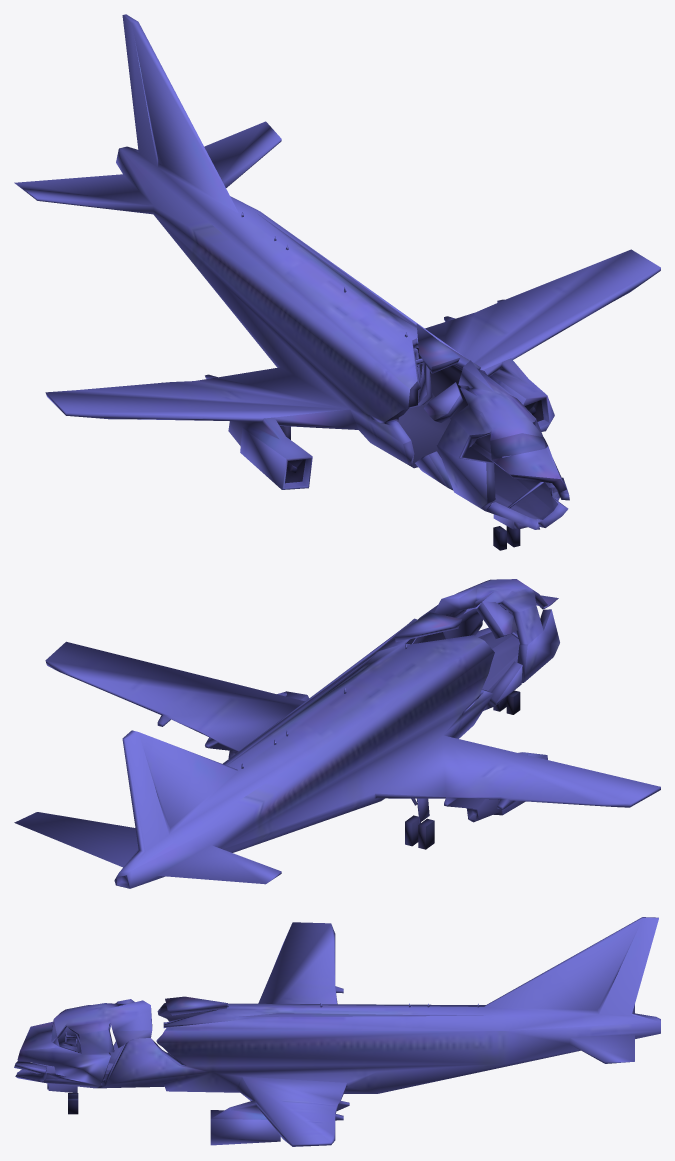
File: model.progressive.glb
3 renders of one model, top to bottom at view 1: azimuth 30°, elevation 25°; view 2: azimuth 150°, elevation 25°; view 3: azimuth 270°, elevation 25°, orthographic. The views are drawn at different scales.
Visible parts, largest first — view 1: material; view 2: material; view 3: material.
Part boxes in pixels (box(x1,y1,x2,y2)): material: box(14, 14, 660, 550); material: box(14, 579, 660, 888); material: box(14, 917, 660, 1146).
Size of the model in its own units: 1.54 by 0.6229 by 1.9.
1 material, 1 textured.
